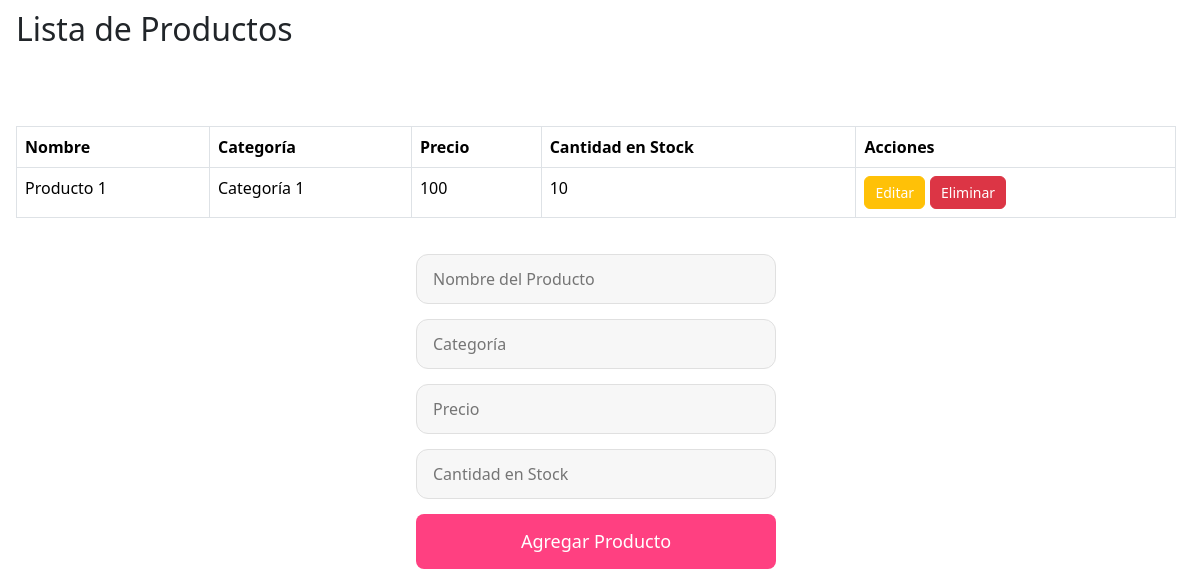
Test: ProductList Component › should delete a product
Expected: the text "Producto 1" is shown, left=16, top=168, right=209, bottom=218
Click the button "Eliminar".
click(968, 193)  # box left=930, top=176, right=1006, bottom=209
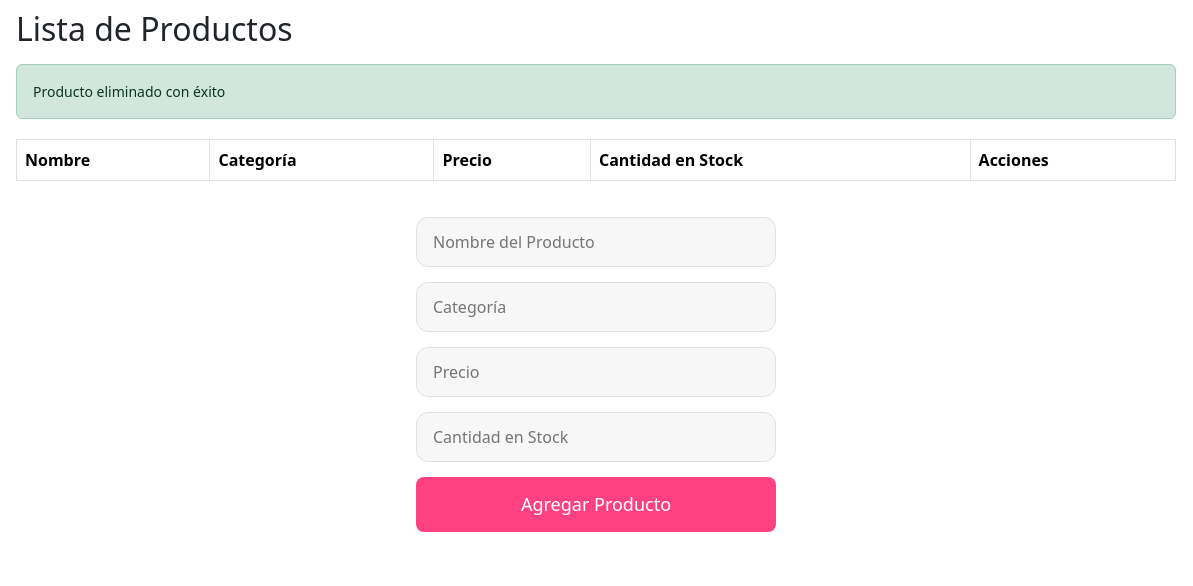
Result: the text "Producto 1" is gone
